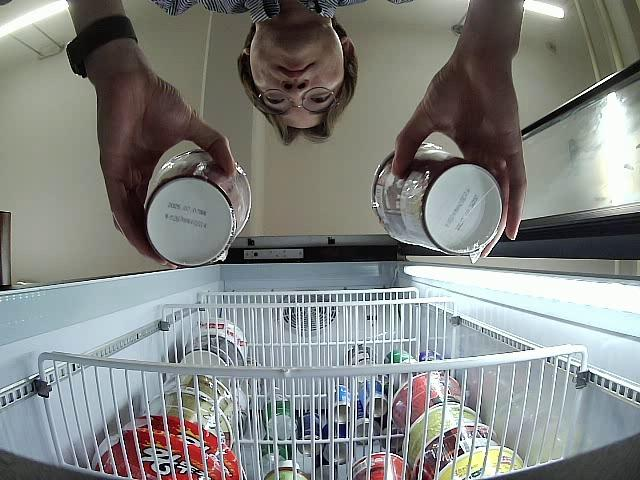00_hand: (393, 75, 530, 268), (97, 88, 239, 268)
06_nuguri_S: (372, 142, 500, 251), (143, 148, 255, 266)
